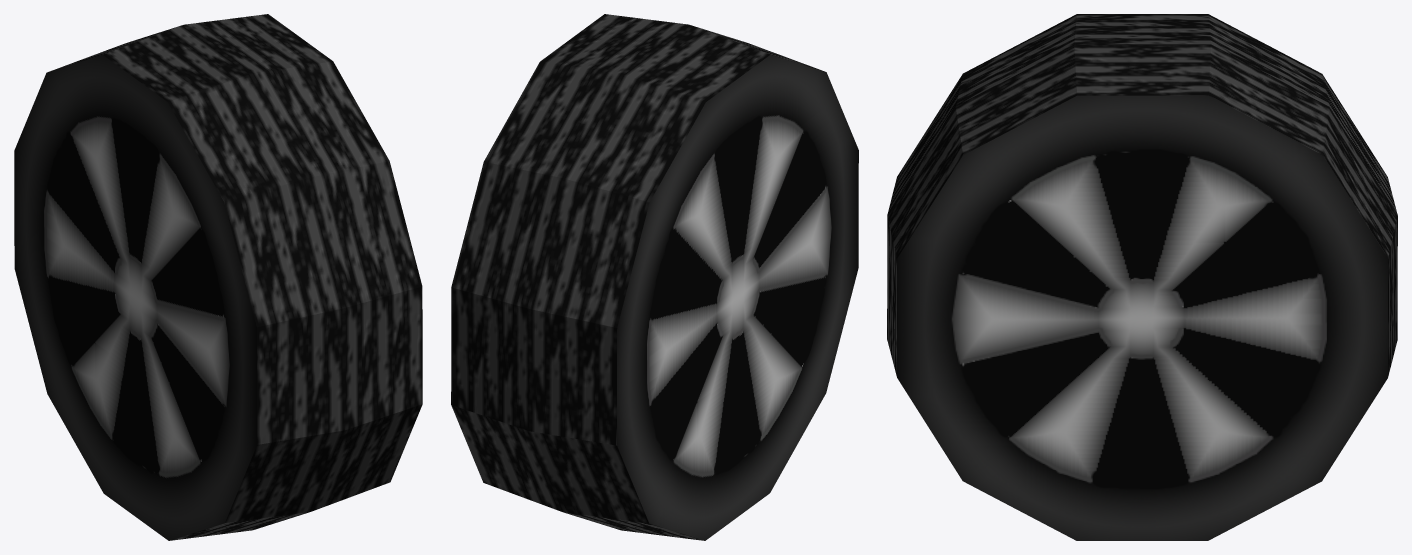
Rendered from Nova Tire.obj.
The picture shows the model from 3 angles, left to right: view 1: azimuth 30°, elevation 25°; view 2: azimuth 150°, elevation 25°; view 3: azimuth 270°, elevation 25°; orthographic projection.
Parts seen in each view (by area): view 1: Tire_Car_Plane.004; view 2: Tire_Car_Plane.004; view 3: Tire_Car_Plane.004.
Boxes of the visible parts, x1,y1,x2,y2 form: Tire_Car_Plane.004: (14, 14, 422, 540); Tire_Car_Plane.004: (451, 14, 858, 540); Tire_Car_Plane.004: (887, 14, 1397, 540).
Bounding box in the file's own units: 0.4201 × 1.1 × 1.1.
